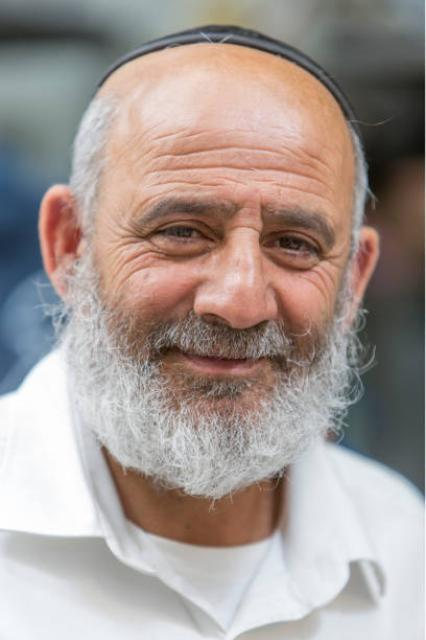crows_feet: (112, 221, 152, 277), (312, 256, 338, 298)
forehead: (150, 134, 222, 188), (232, 139, 288, 191), (290, 146, 338, 204)
frown_line: (230, 211, 262, 237)
